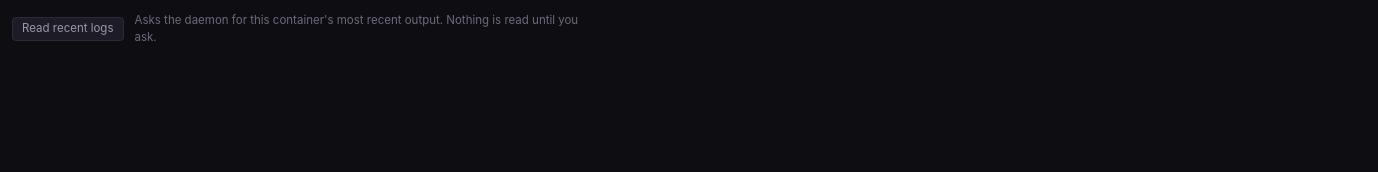
Test: ContainerLogPanel › does not carry open logs or tail across object identity
Later steps or results of the test are not shown.
Click the button "Read recent logs".
click(68, 29)  # box [12,17,124,41]
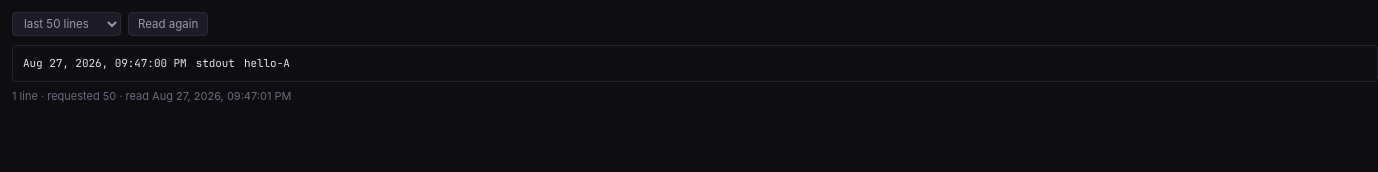
Check: the text "hello-A" is shown, box [244,56,290,70]
